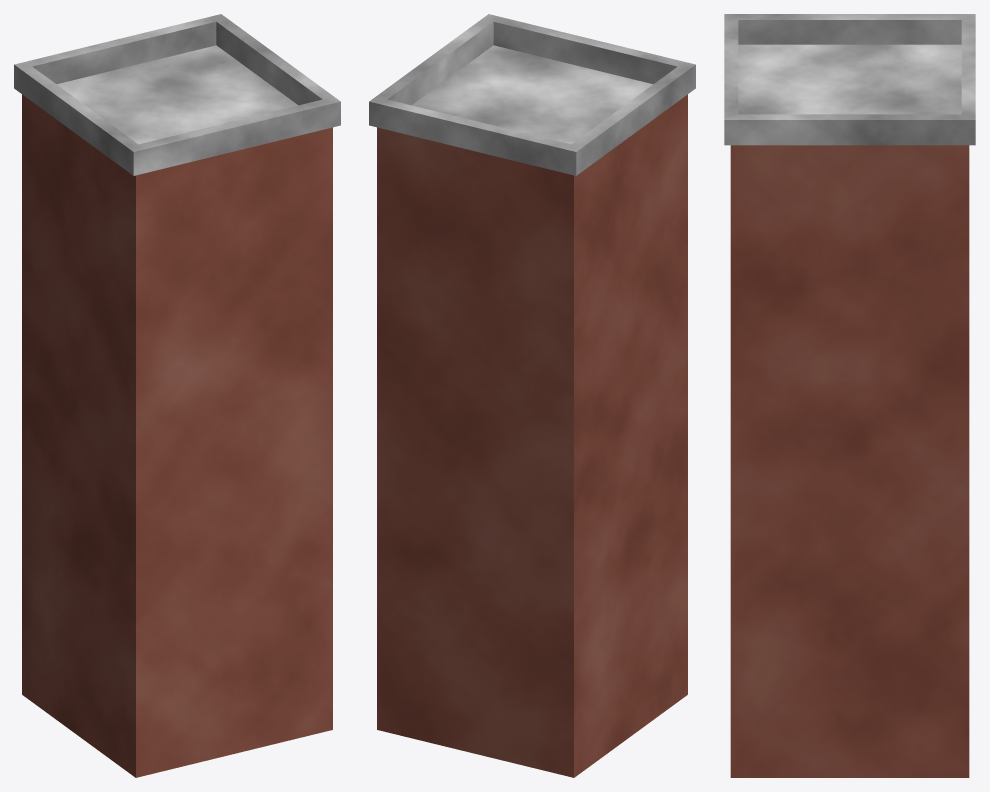
Rendered from 42Firstblock.FBX.
3 renders of one model, left to right at view 1: azimuth 30°, elevation 25°; view 2: azimuth 150°, elevation 25°; view 3: azimuth 270°, elevation 25°, orthographic. The views are drawn at different scales.
Parts seen in each view (by area): view 1: Box001; view 2: Box001; view 3: Box001.
Part boxes in pixels (x1,y1,x2,y2): Box001: [14, 14, 340, 777]; Box001: [369, 14, 695, 777]; Box001: [724, 14, 975, 777].
Size of the model in its own units: 827 by 2402 by 827.
Materials: 1 (1 with a texture image).
